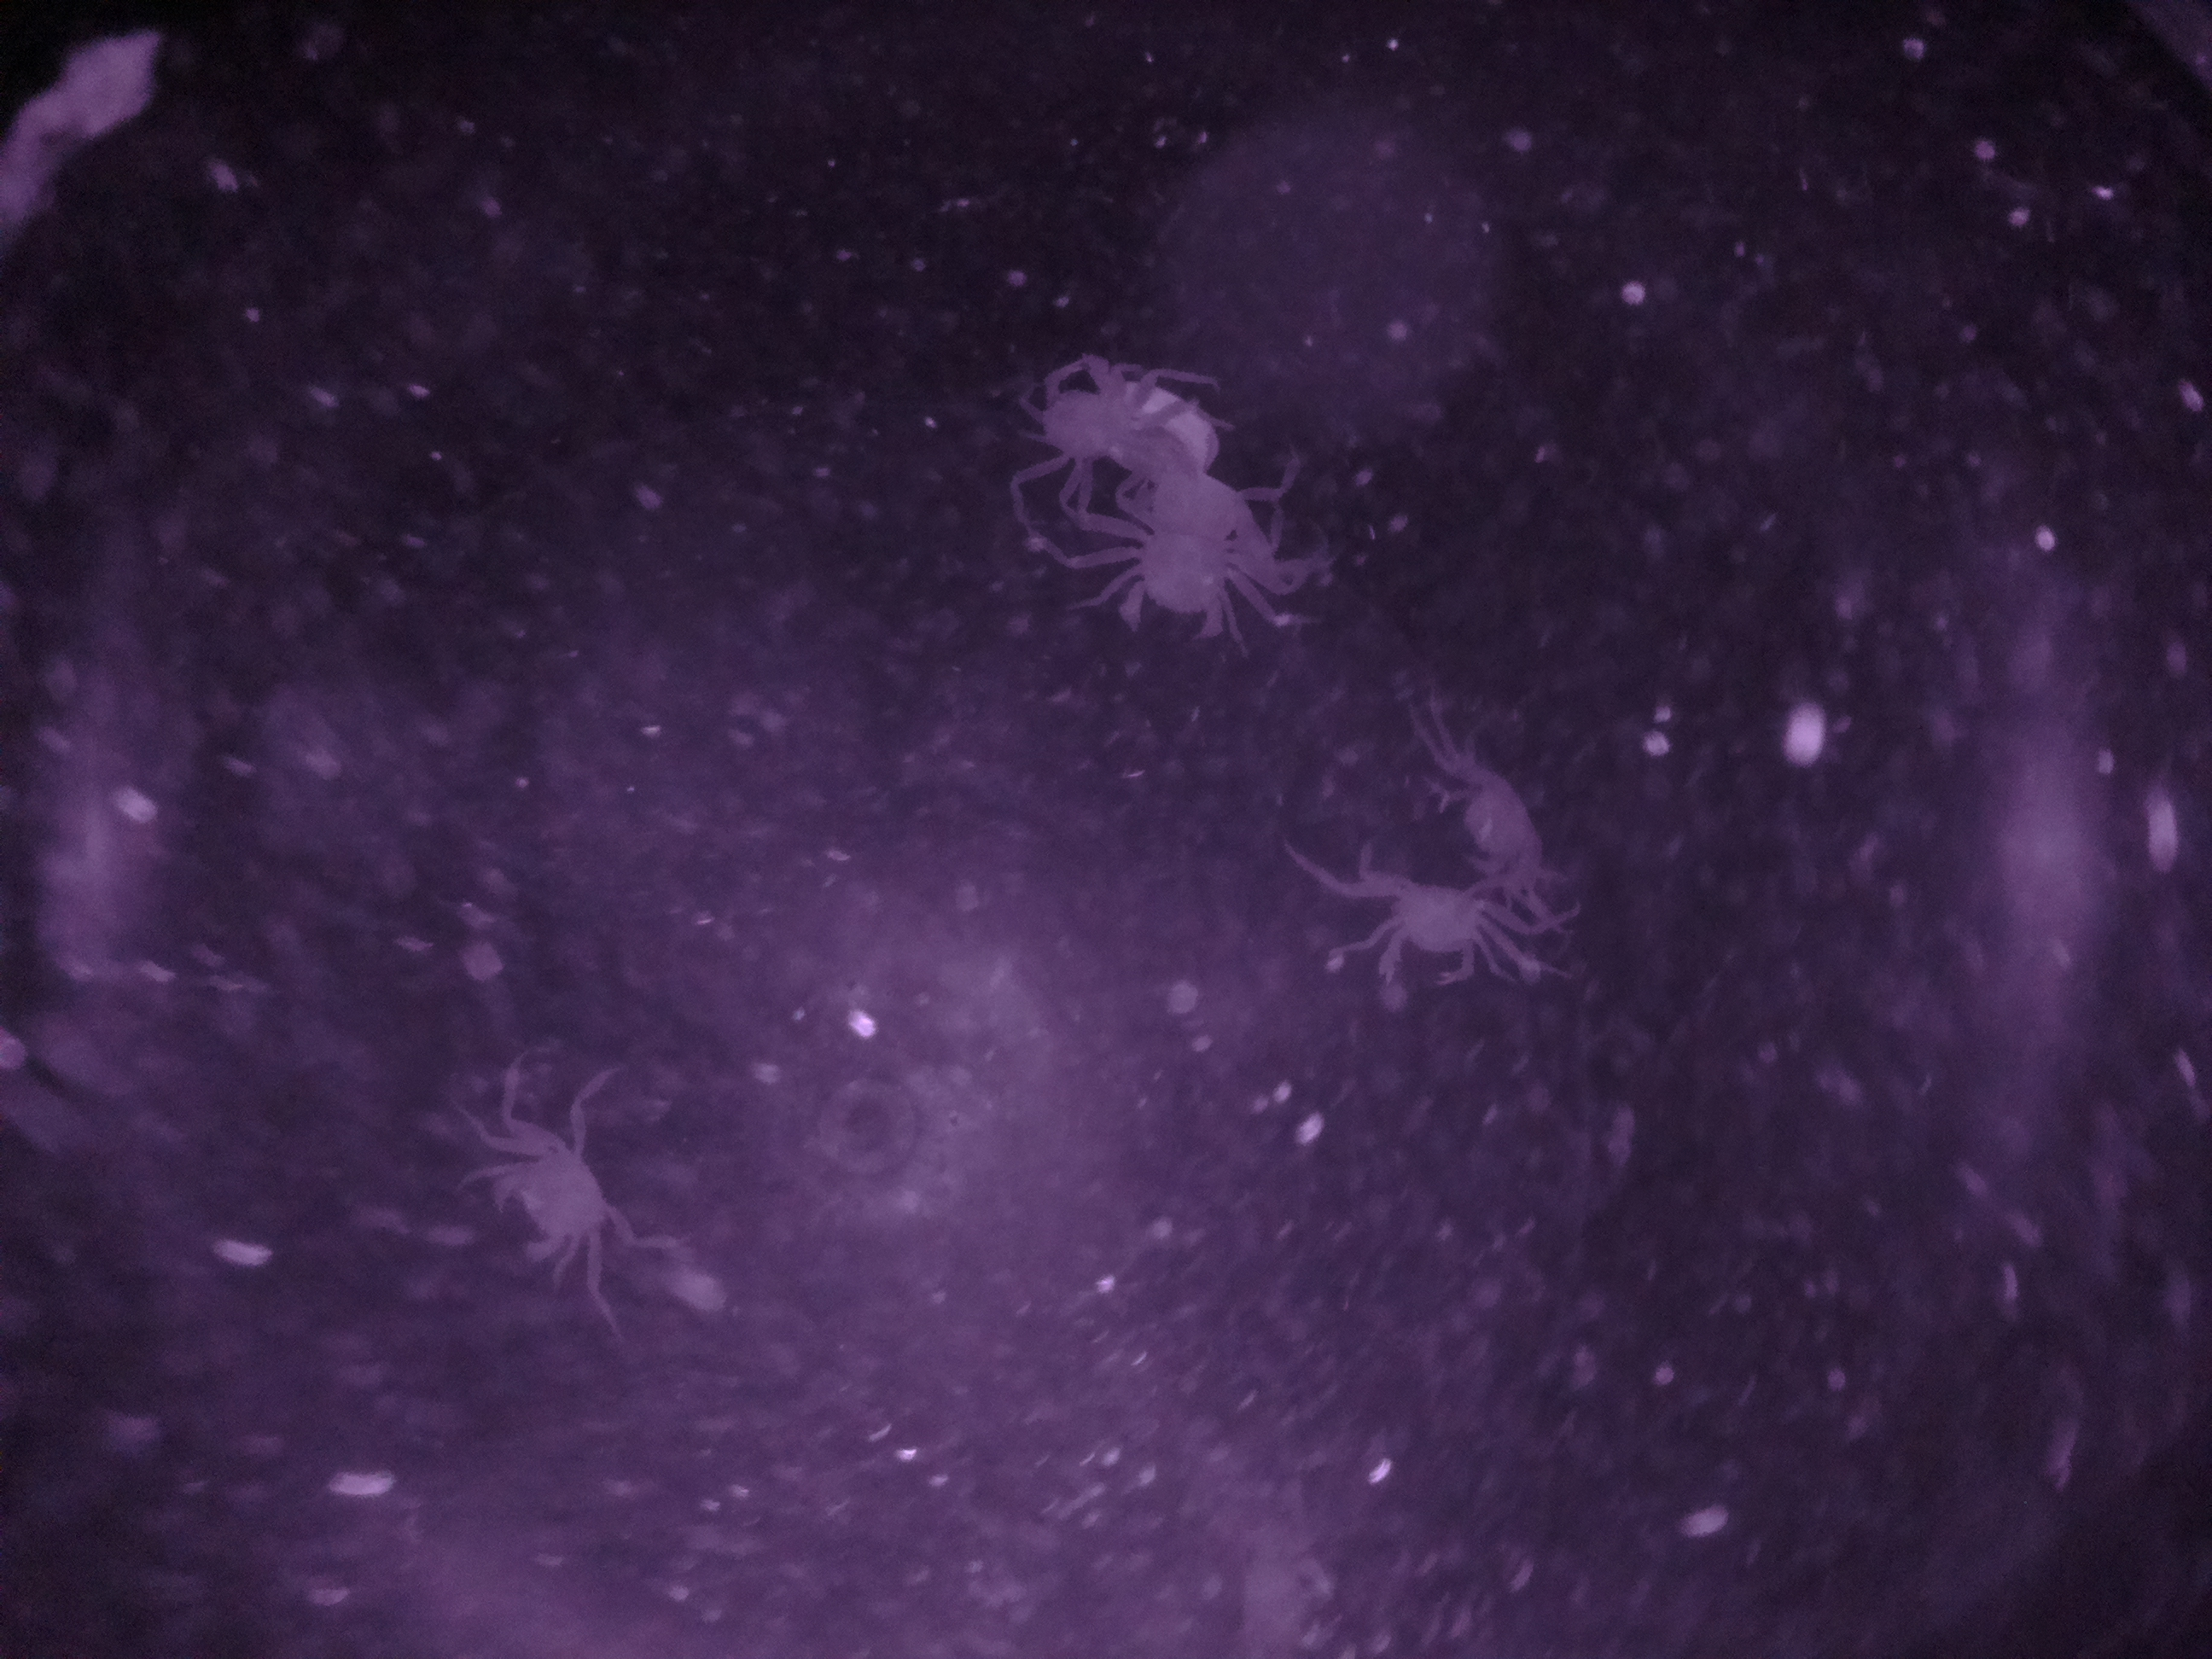Crab: (1329, 833, 1501, 1006), (470, 1112, 644, 1283)
